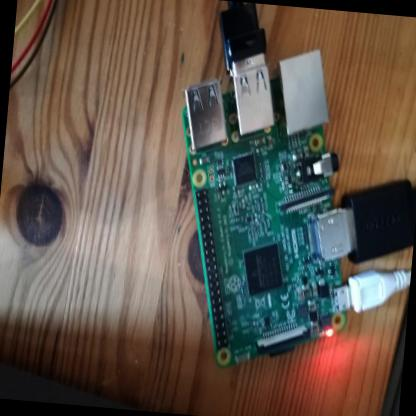Raspberry_Pi_3: (158, 39, 375, 385)
